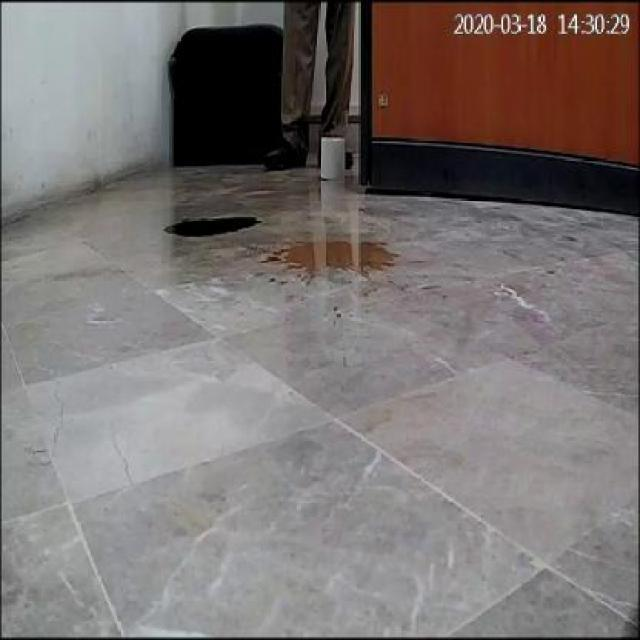spill: (269, 237, 386, 276), (164, 213, 262, 241)
